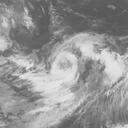cyclone: (14, 33, 127, 118)
